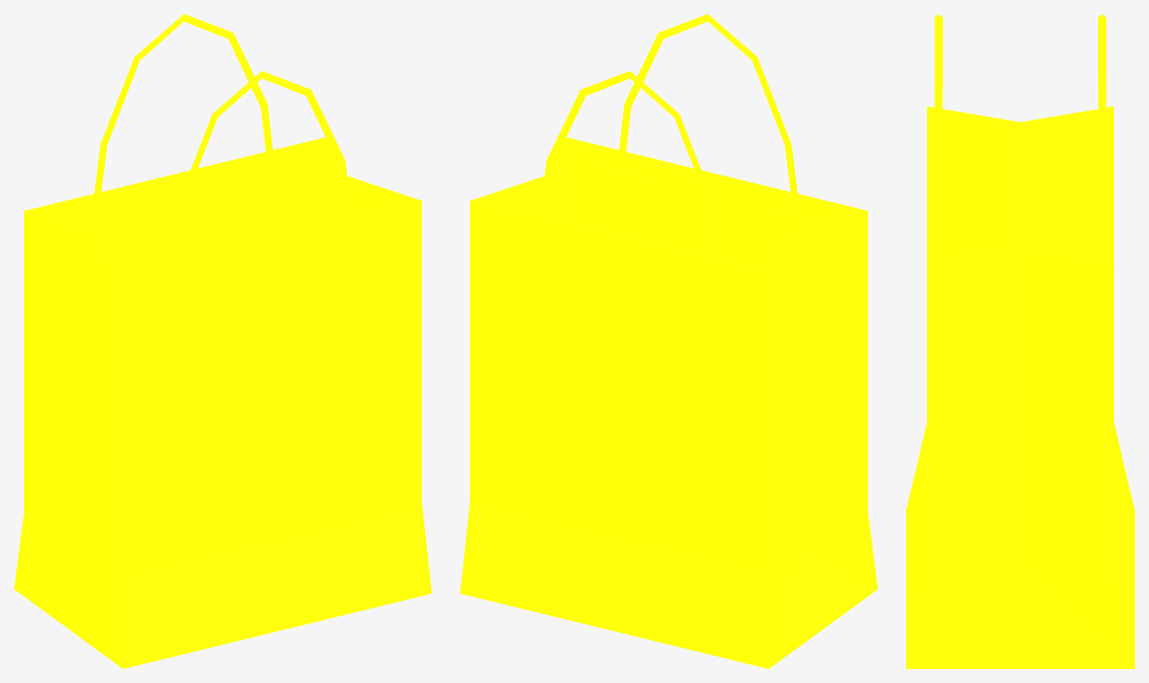
File: bag-gift-christmas-b.glb
The picture shows the model from 3 angles, left to right: view 1: azimuth 30°, elevation 25°; view 2: azimuth 150°, elevation 25°; view 3: azimuth 270°, elevation 25°; orthographic projection. The views are drawn at different scales.
Visible parts, largest first — view 1: bag_gift_christmas_b; view 2: bag_gift_christmas_b; view 3: bag_gift_christmas_b.
Boxes of the visible parts, box(x1,y1,x2,y2) form: bag_gift_christmas_b: box(14, 14, 431, 668); bag_gift_christmas_b: box(460, 14, 877, 668); bag_gift_christmas_b: box(906, 14, 1134, 668).
Size of the model in its own units: 0.2353 by 0.3997 by 0.1438.
1 material, 1 textured.
